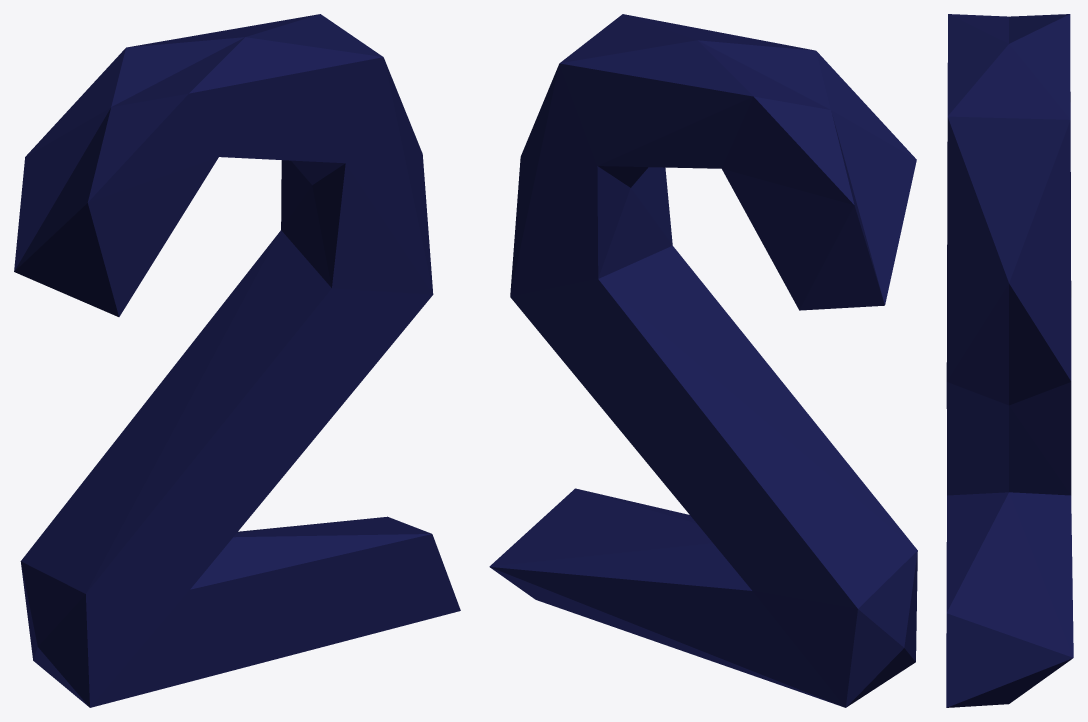
The picture shows the model from 3 angles, left to right: view 1: azimuth 30°, elevation 25°; view 2: azimuth 150°, elevation 25°; view 3: azimuth 270°, elevation 25°; orthographic projection. The views are drawn at different scales.
Parts seen in each view (by area): view 1: Two; view 2: Two; view 3: Two.
Part boxes in pixels (x1,y1,x2,y2): Two: (14,14,460,707); Two: (489,14,917,707); Two: (946,14,1073,707).
Size of the model in its own units: 0.3379 by 0.4952 by 0.0978.
